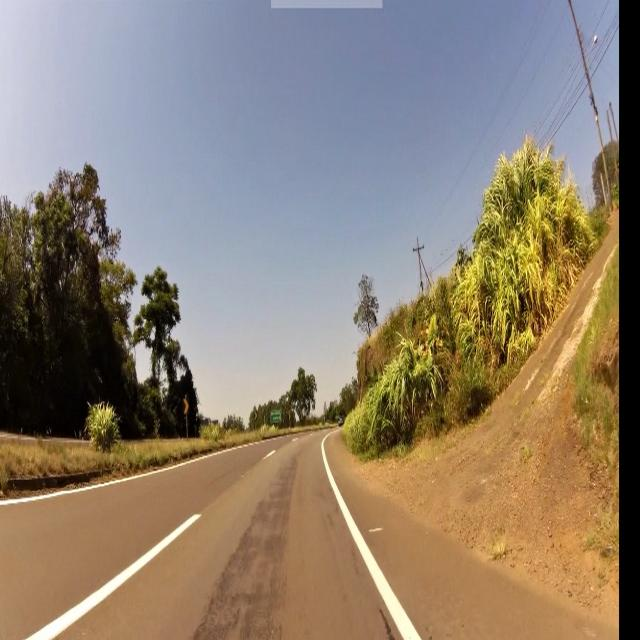Del: (184, 399, 188, 412)
